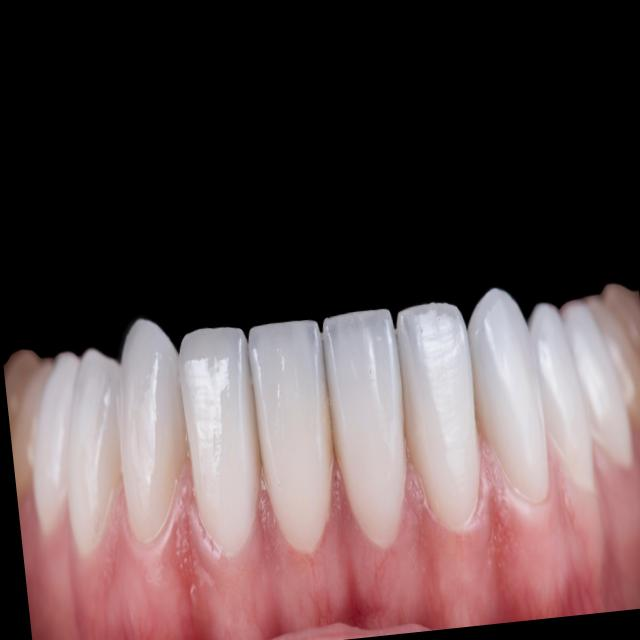Tooth: (248, 320, 334, 548), (322, 309, 405, 545), (178, 327, 260, 554), (396, 302, 478, 526), (467, 287, 549, 504), (118, 318, 188, 541), (559, 298, 634, 469), (528, 303, 593, 487), (67, 348, 121, 554), (32, 350, 79, 533)
